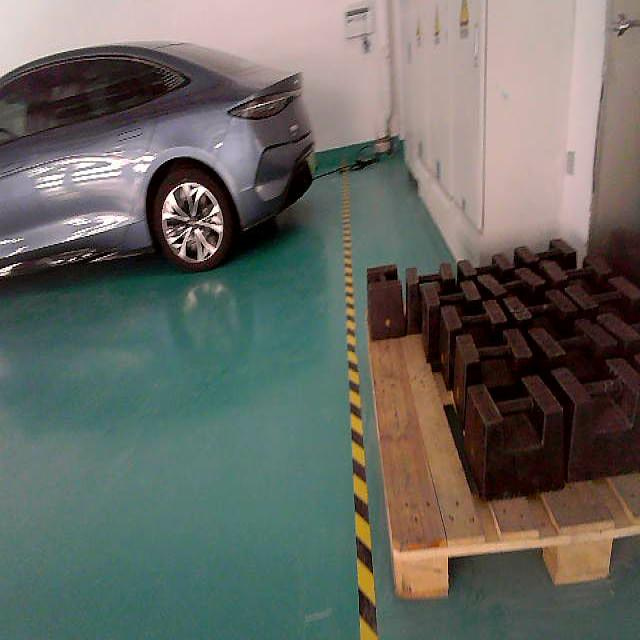euro: (368, 333, 639, 595)
